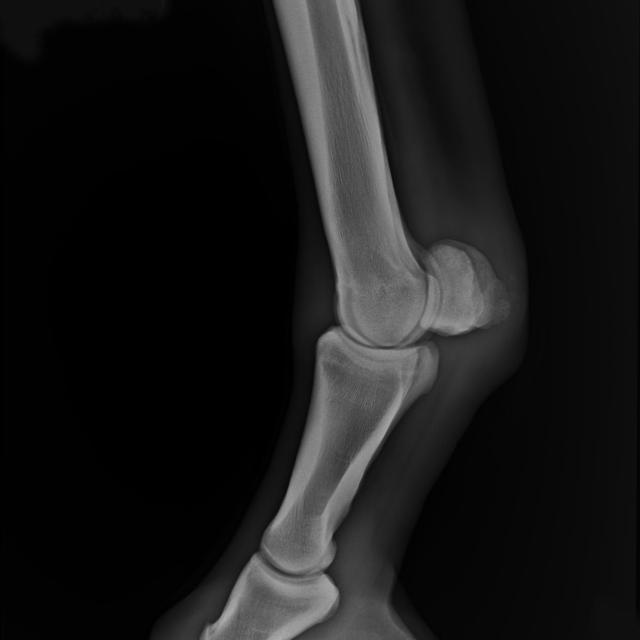joint-ht8A: (281, 190, 537, 422)
